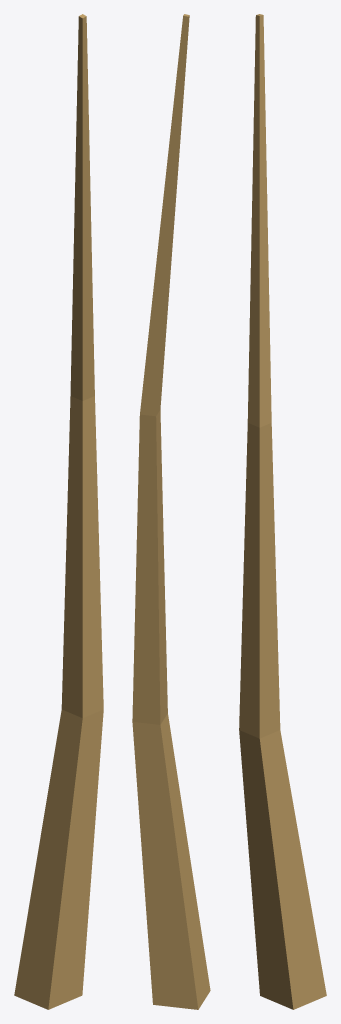
File: Simple_Tree_NoLeaves_s_03_LOD.fbx
3 renders of one model, left to right at view 1: azimuth 90°, elevation 25°; view 2: azimuth 210°, elevation 25°; view 3: azimuth 270°, elevation 25°, orthographic. The views are drawn at different scales.
Visible parts, largest first — view 1: Simple_Tree_NoLeaves_s_03_LOD0; view 2: Simple_Tree_NoLeaves_s_03_LOD0; view 3: Simple_Tree_NoLeaves_s_03_LOD0.
Part boxes in pixels (x1,y1,x2,y2): Simple_Tree_NoLeaves_s_03_LOD0: (14, 14, 103, 1009); Simple_Tree_NoLeaves_s_03_LOD0: (132, 14, 210, 1009); Simple_Tree_NoLeaves_s_03_LOD0: (239, 14, 326, 1009).
Size of what is drawn, in the model's own units: 23.88 by 359 by 29.41.
